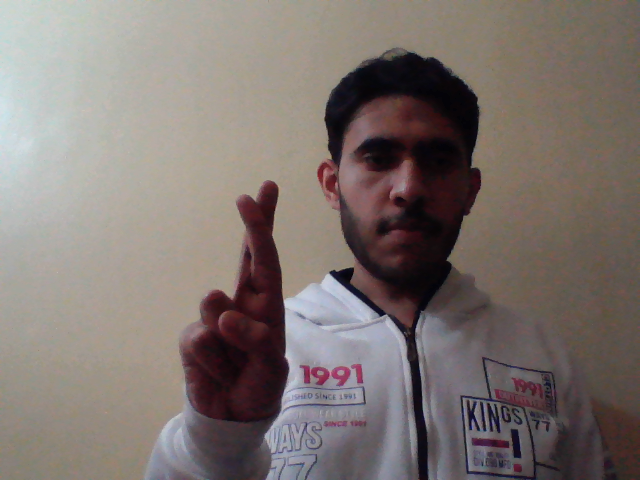R: (172, 177, 294, 429)
